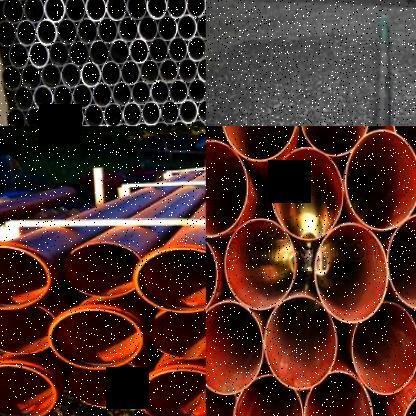pipe: (315, 222, 388, 323), (345, 128, 416, 230), (264, 296, 338, 390), (271, 148, 344, 240), (223, 218, 296, 310), (352, 301, 416, 395), (48, 308, 143, 370), (206, 300, 263, 395), (134, 247, 206, 313), (62, 243, 141, 298), (206, 140, 248, 236), (67, 362, 144, 409), (0, 244, 52, 310), (136, 368, 206, 416), (303, 369, 374, 416), (231, 373, 303, 416), (386, 211, 416, 312), (0, 363, 56, 416), (221, 126, 298, 163), (149, 310, 206, 358), (0, 305, 54, 354), (298, 126, 372, 156), (206, 373, 237, 416), (391, 126, 416, 159), (36, 18, 58, 46), (68, 38, 90, 66), (8, 42, 30, 70), (48, 40, 70, 67), (57, 17, 78, 45), (16, 18, 37, 46), (41, 62, 62, 90), (52, 84, 74, 110), (118, 16, 139, 43), (98, 16, 119, 43), (109, 38, 130, 65), (89, 39, 110, 66), (81, 61, 102, 88), (1, 64, 22, 91), (14, 85, 35, 112), (158, 14, 178, 42), (138, 14, 158, 42), (78, 17, 98, 45), (150, 78, 170, 106), (129, 38, 150, 64), (61, 62, 82, 88), (21, 64, 42, 90), (92, 82, 113, 108), (33, 85, 54, 111), (178, 56, 198, 83), (140, 58, 160, 85), (120, 59, 140, 86), (112, 80, 132, 107), (73, 82, 93, 109), (29, 41, 48, 69), (177, 14, 197, 40), (168, 36, 188, 62), (149, 37, 169, 63), (158, 58, 178, 84), (131, 80, 151, 106), (141, 100, 161, 126), (187, 34, 206, 61), (187, 76, 206, 103), (44, 0, 66, 23), (2, 0, 23, 24), (101, 61, 121, 86), (168, 79, 188, 104), (160, 99, 180, 124), (179, 98, 198, 124), (23, 0, 44, 23), (103, 102, 123, 126), (0, 18, 17, 46), (122, 101, 141, 126), (86, 0, 108, 21), (64, 0, 85, 22), (84, 103, 104, 126), (106, 0, 127, 21), (64, 104, 84, 126), (126, 0, 147, 20), (26, 106, 46, 126), (166, 0, 187, 19), (146, 0, 167, 19), (5, 107, 26, 126), (46, 105, 64, 126), (186, 0, 206, 18), (196, 12, 206, 39), (196, 55, 206, 82), (197, 98, 206, 122), (150, 119, 171, 127), (188, 118, 206, 127), (171, 119, 190, 127)
